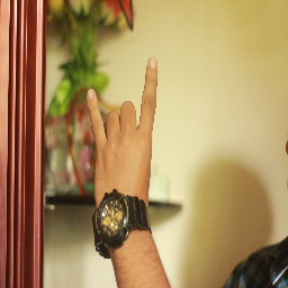V: (82, 52, 163, 205)
